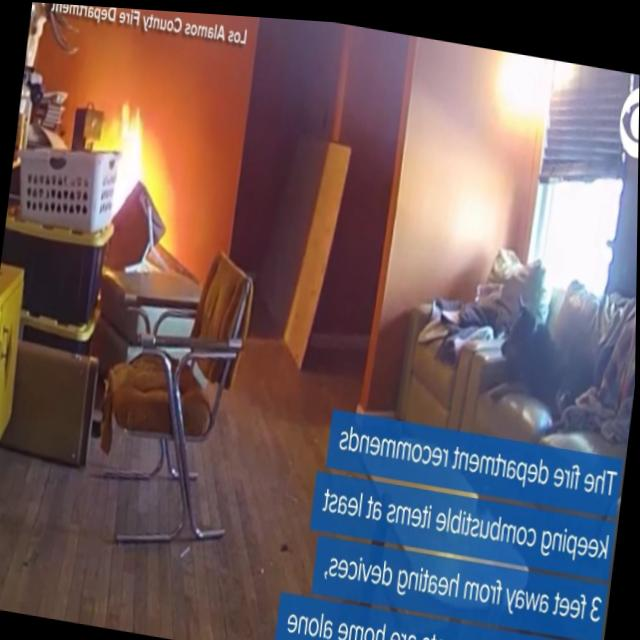fire: (92, 86, 163, 226)
